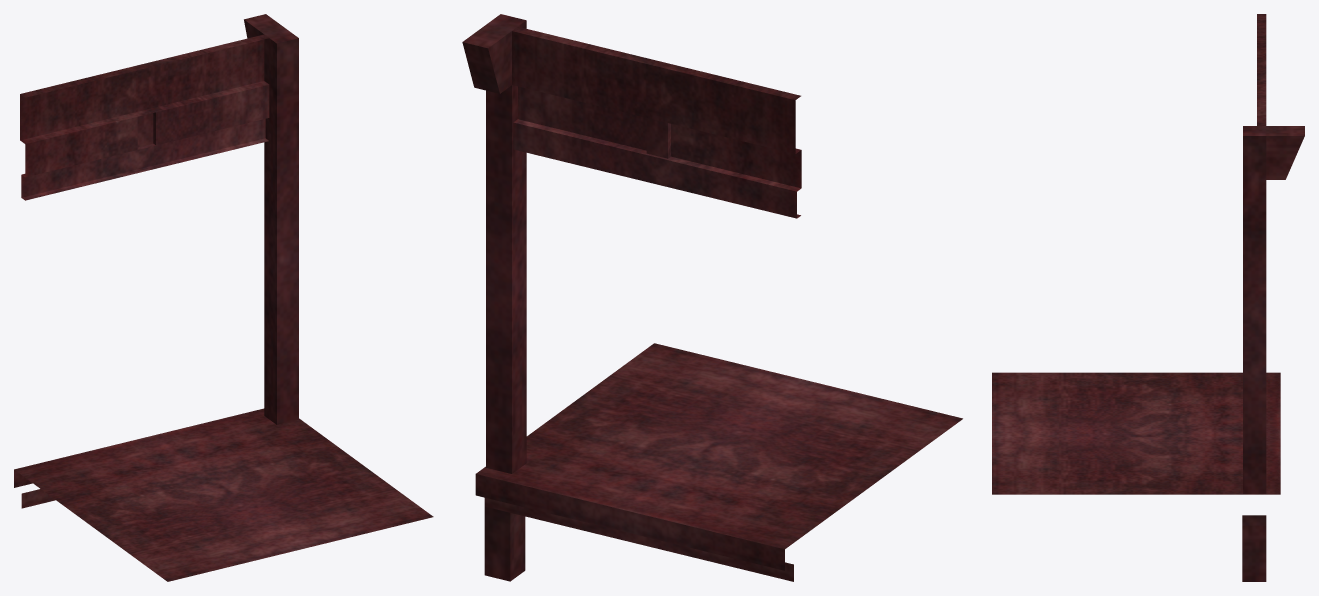
The model's file is NNJ0510079.fbx.
The picture shows the model from 3 angles, left to right: view 1: azimuth 30°, elevation 25°; view 2: azimuth 150°, elevation 25°; view 3: azimuth 270°, elevation 25°; orthographic projection. The views are drawn at different scales.
Visible parts, largest first — view 1: smNNJ0510079; view 2: smNNJ0510079; view 3: smNNJ0510079.
Boxes of the visible parts, x1,y1,x2,y2 form: smNNJ0510079: [14, 14, 433, 581]; smNNJ0510079: [462, 14, 962, 581]; smNNJ0510079: [992, 14, 1304, 581].
Size of the model in its own units: 278 by 470 by 300.
Materials: 1 (1 with a texture image).
